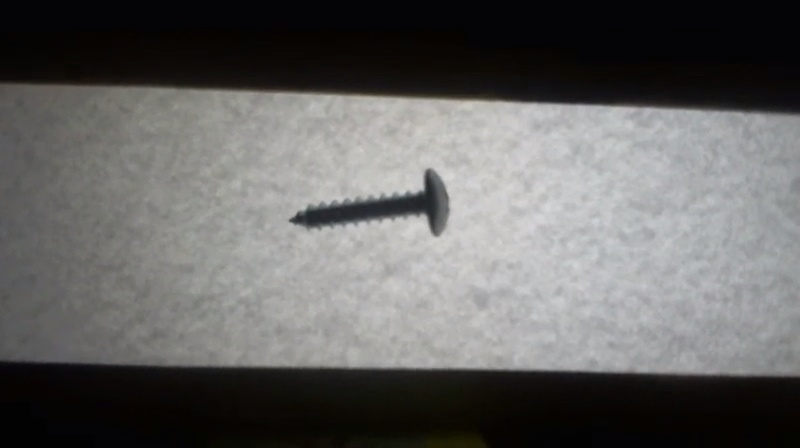S003: (283, 166, 454, 240)
